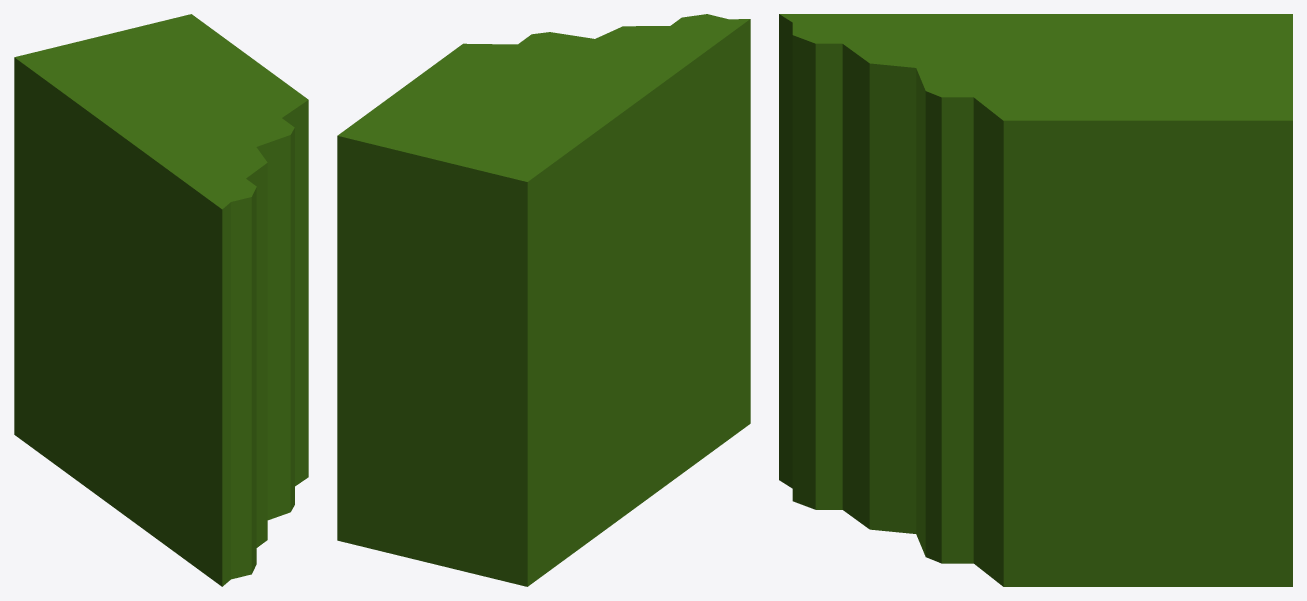
Rendered from B9 NW Mountain.obj.
The picture shows the model from 3 angles, left to right: view 1: azimuth 30°, elevation 25°; view 2: azimuth 150°, elevation 25°; view 3: azimuth 270°, elevation 25°; orthographic projection. The views are drawn at different scales.
Parts seen in each view (by area): view 1: Mesh1 B9_NW_Mountain1 Model; view 2: Mesh1 B9_NW_Mountain1 Model; view 3: Mesh1 B9_NW_Mountain1 Model.
Part boxes in pixels (x1,y1,x2,y2): Mesh1 B9_NW_Mountain1 Model: (14,14,308,586); Mesh1 B9_NW_Mountain1 Model: (337,14,750,586); Mesh1 B9_NW_Mountain1 Model: (779,14,1292,586).
Size of the model in its own units: 1.97 by 4 by 4.
